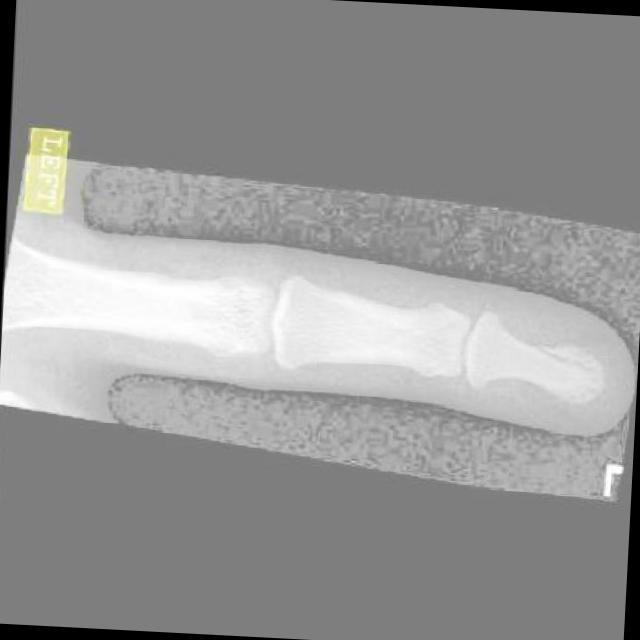bone: (537, 340, 611, 410)
